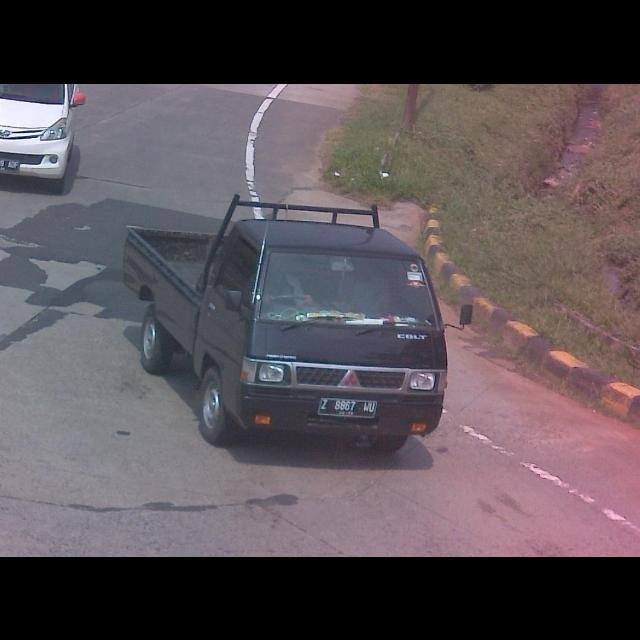plate: (318, 396, 379, 420)
